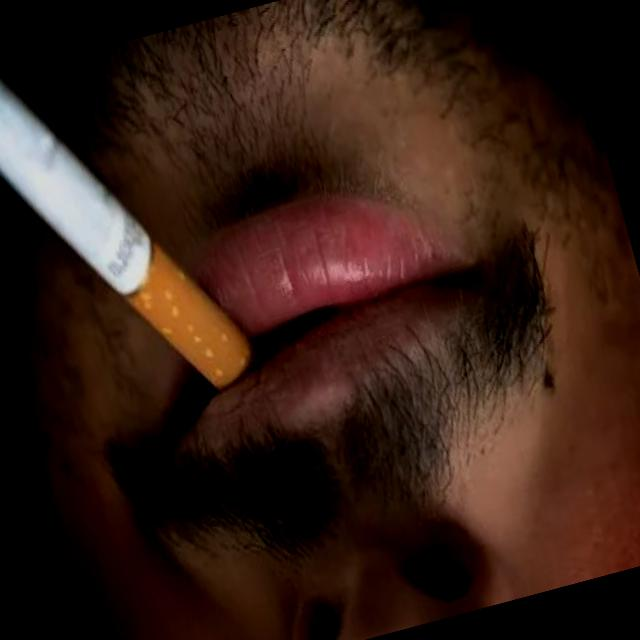smoke: (0, 25, 281, 467)
